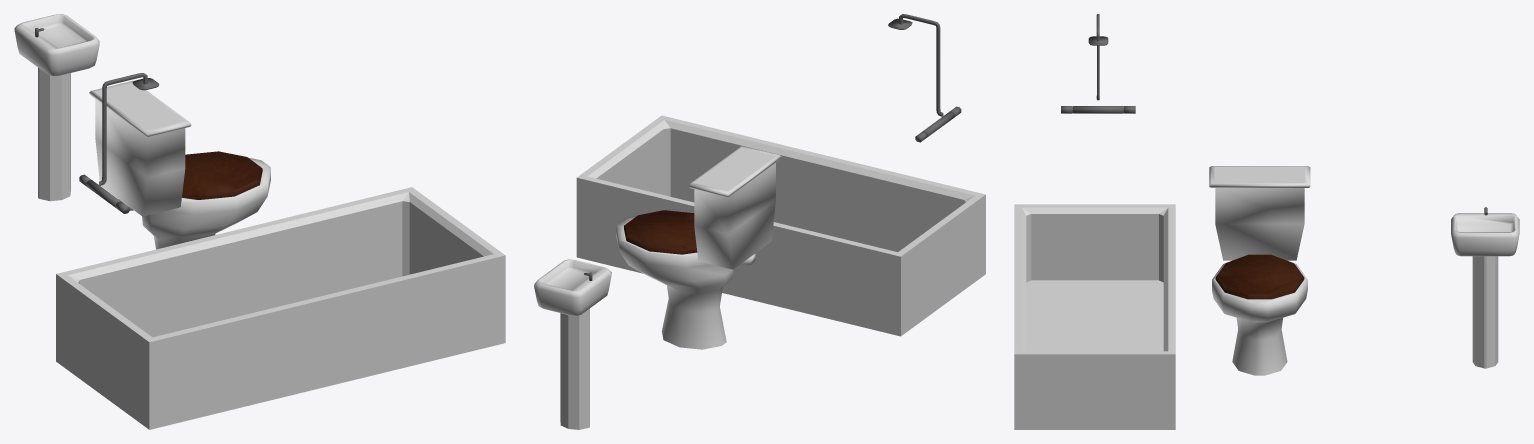
The model's file is bathroom.fbx.
The picture shows the model from 3 angles, left to right: view 1: azimuth 30°, elevation 25°; view 2: azimuth 150°, elevation 25°; view 3: azimuth 270°, elevation 25°; orthographic projection. The views are drawn at different scales.
Visible parts, largest first — view 1: bath, toilet, sink, shower; view 2: bath, toilet, sink, shower; view 3: bath, toilet, sink, shower.
Boxes of the visible parts, left/top/right/bottom form: bath: left=56, top=187, right=505, bottom=429; toilet: left=89, top=80, right=270, bottom=249; sink: left=14, top=14, right=99, bottom=201; shower: left=79, top=73, right=159, bottom=213; bath: left=576, top=115, right=985, bottom=336; toilet: left=616, top=146, right=781, bottom=349; sink: left=534, top=259, right=611, bottom=429; shower: left=888, top=14, right=961, bottom=142; bath: left=1014, top=204, right=1175, bottom=429; toilet: left=1209, top=166, right=1310, bottom=375; sink: left=1451, top=207, right=1519, bottom=368; shower: left=1061, top=14, right=1135, bottom=113.
Bounding box in the file's own units: 449 × 383 × 637.
